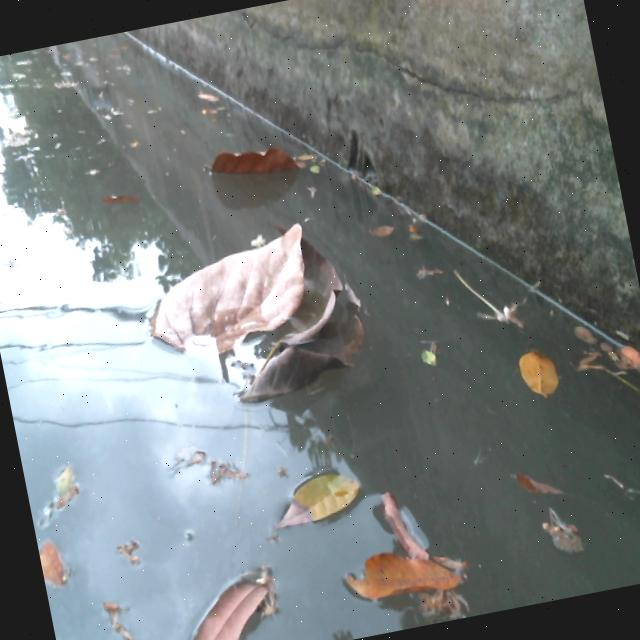Big-leaf: (104, 221, 386, 442), (349, 544, 481, 626), (199, 126, 316, 200)
Small-leaf: (147, 557, 288, 640), (261, 459, 383, 539), (510, 320, 576, 417), (508, 453, 568, 516), (44, 459, 93, 522), (537, 515, 592, 571), (98, 174, 157, 223), (36, 529, 77, 596), (610, 331, 640, 411), (399, 210, 438, 261), (415, 341, 453, 384), (364, 209, 399, 253), (196, 83, 230, 123), (237, 230, 279, 255), (367, 185, 391, 204), (302, 160, 322, 179)
